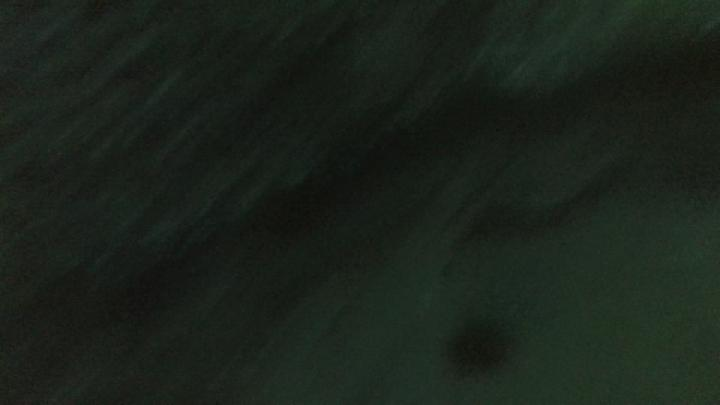echinus: (434, 308, 520, 380)
